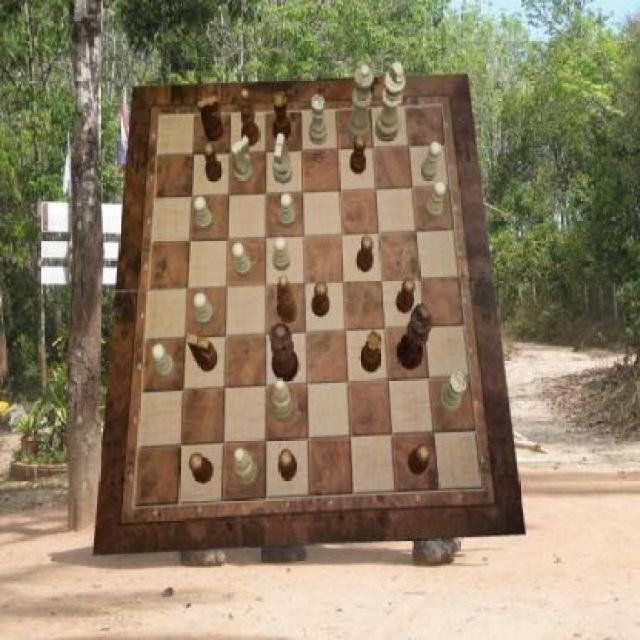bishop: (238, 89, 260, 148), (277, 276, 297, 324)
black-bishop: (397, 303, 434, 369)
black-king: (197, 96, 223, 142), (188, 334, 218, 372)
black-knight: (189, 454, 214, 484), (203, 143, 222, 182), (408, 444, 430, 476), (397, 279, 417, 313), (278, 449, 298, 482), (312, 282, 330, 318), (350, 135, 366, 174), (357, 236, 374, 272)
black-pawn: (269, 323, 299, 383)
black-queen: (272, 90, 292, 142), (360, 331, 382, 373)
black-rook: (272, 378, 295, 422), (234, 448, 258, 488)
white-bishop: (376, 62, 406, 143)
white-king: (231, 136, 253, 184), (274, 134, 294, 184)
white-knight: (152, 344, 176, 380), (426, 182, 446, 222), (422, 142, 442, 182), (232, 243, 252, 279), (194, 294, 214, 328), (194, 197, 214, 231), (272, 237, 290, 271), (280, 192, 297, 228)
white-pawn: (346, 66, 374, 145)
white-queen: (439, 372, 466, 414), (310, 94, 328, 144)
